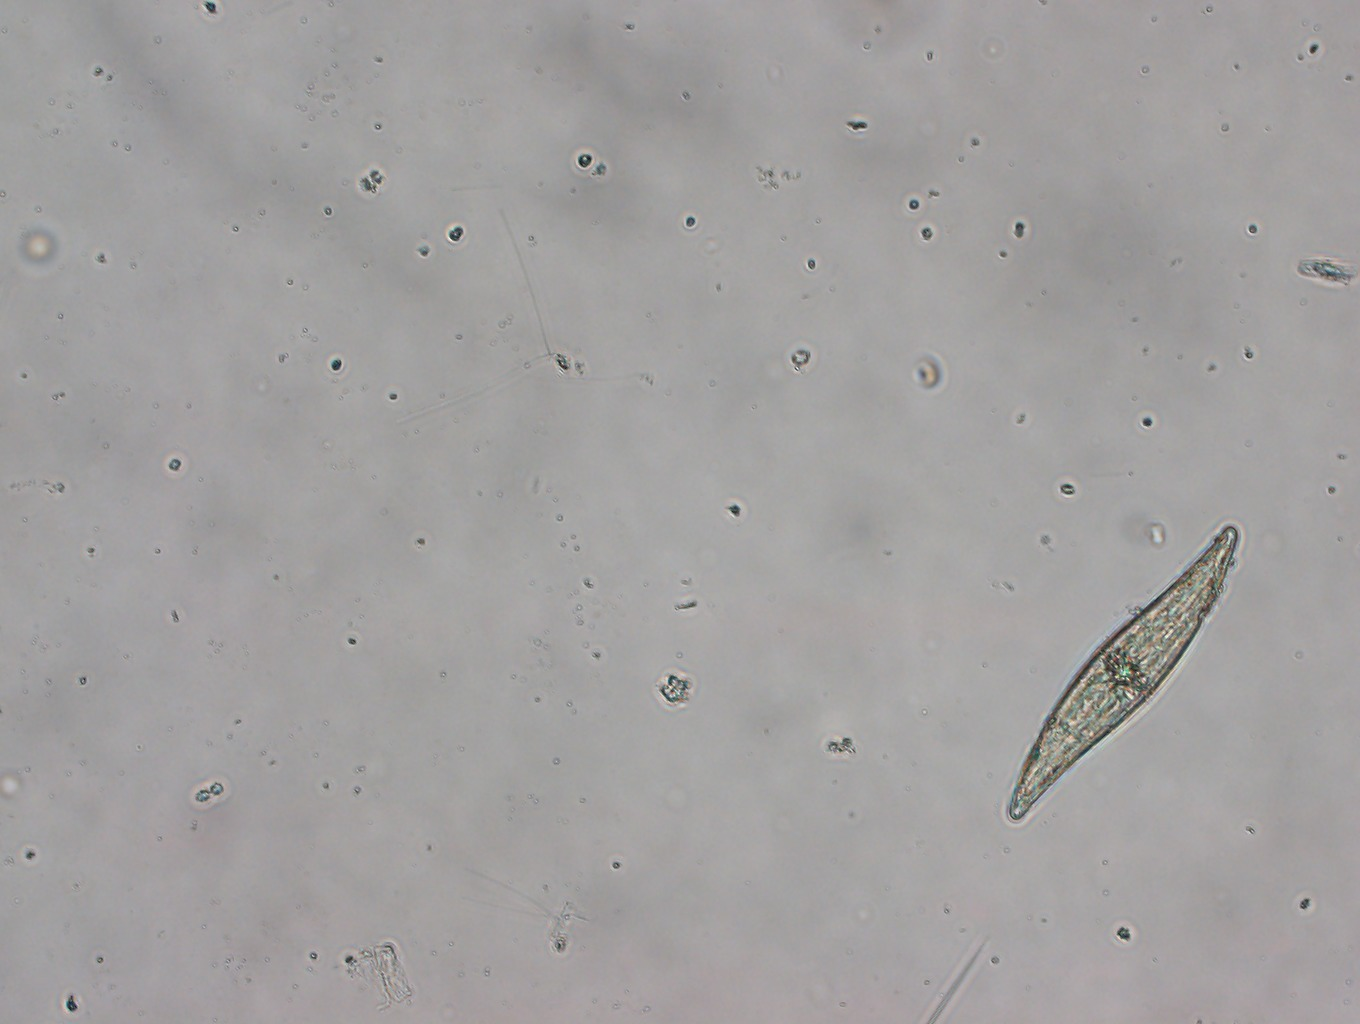pleurosigma pelagicum: (1006, 525, 1241, 825)
